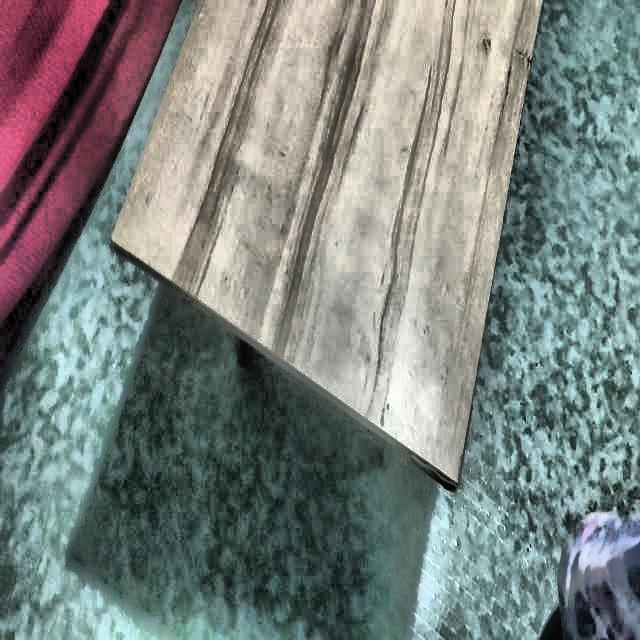mesa: (104, 0, 544, 509)
